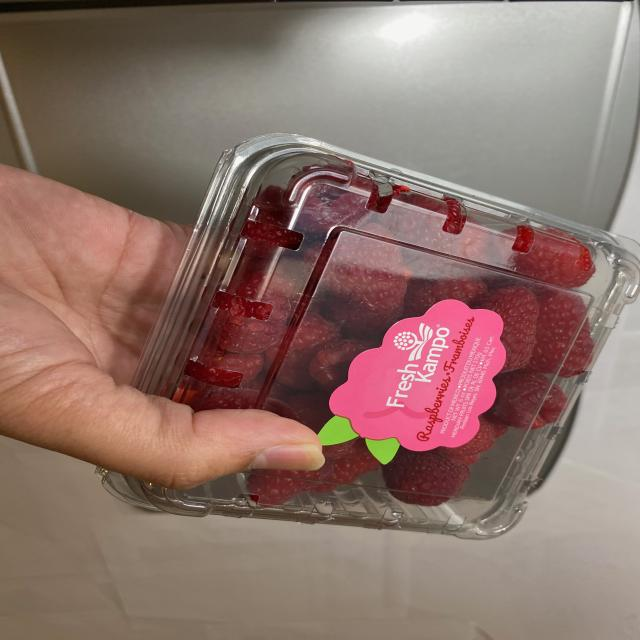raspberries: (232, 185, 626, 518)
